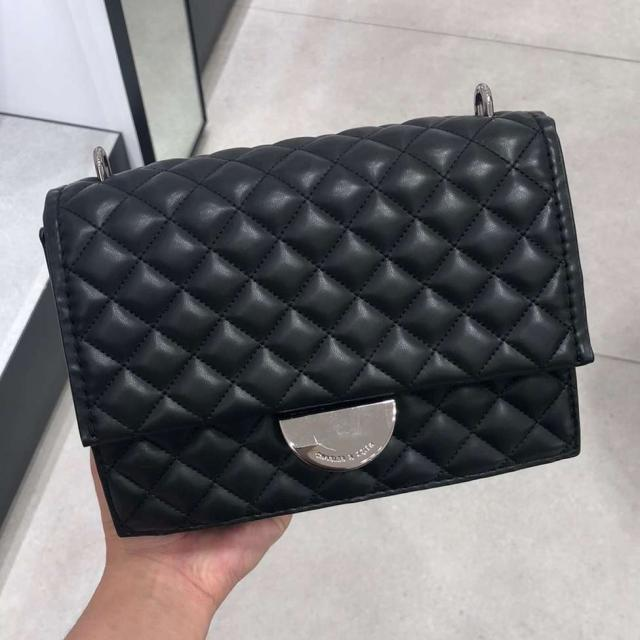bag: (21, 75, 596, 551)
